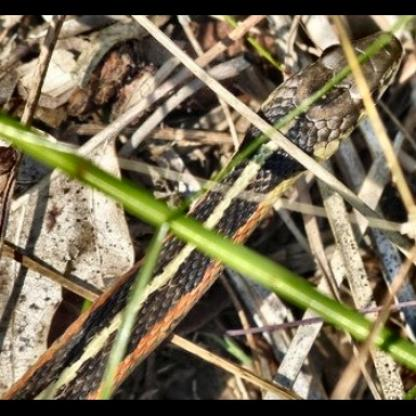Snake: (205, 25, 406, 257), (12, 242, 214, 400)
